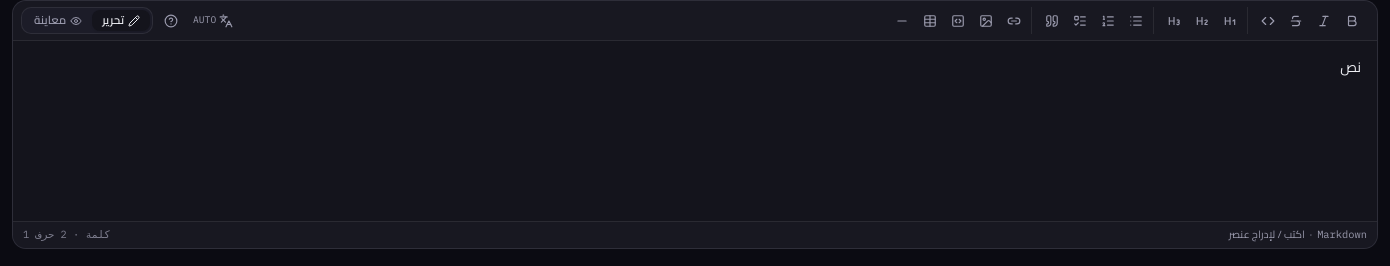
Test: MarkdownEditor › disables the formatting buttons while previewing
Click the button "معاينة" at point(58, 20), box 24,10 -> 92,31
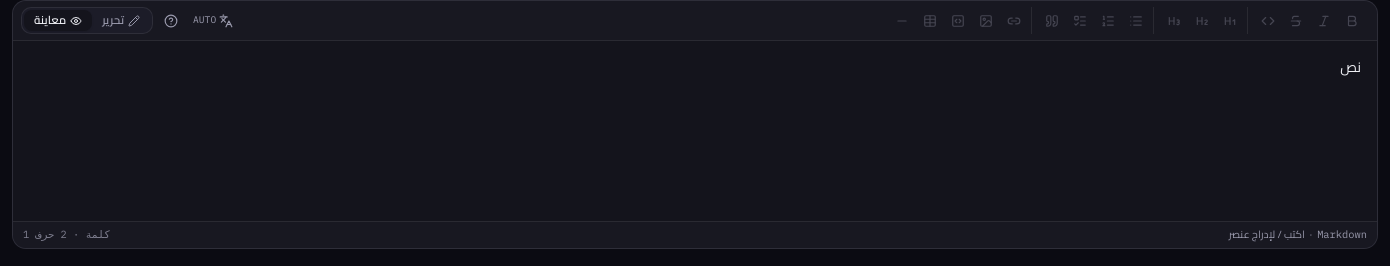
Result: the button named "عريض" is disabled at 1338,7 -> 1365,34
